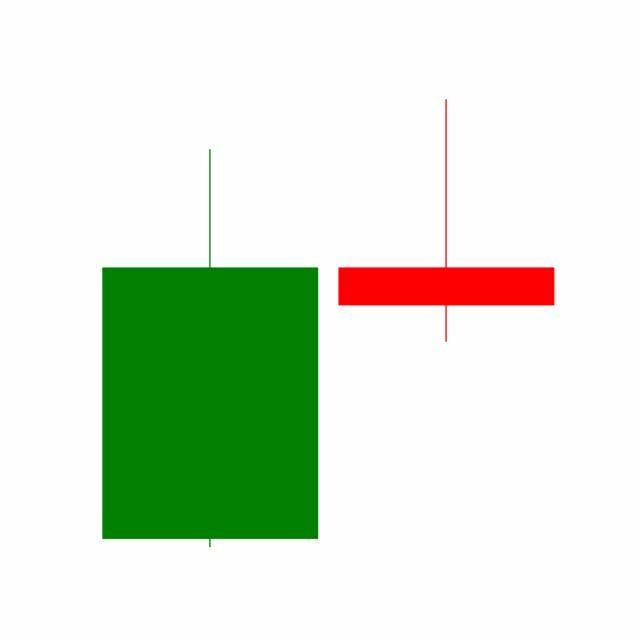Gravestone Doji: (328, 97, 566, 346)
